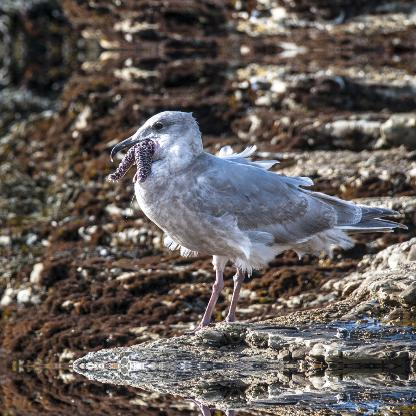Bird: (103, 112, 397, 326)
